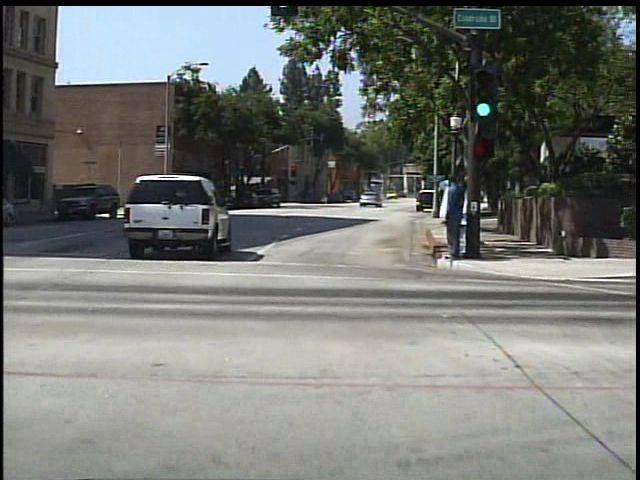person: (440, 171, 467, 263), (433, 177, 459, 263), (319, 191, 330, 205)
